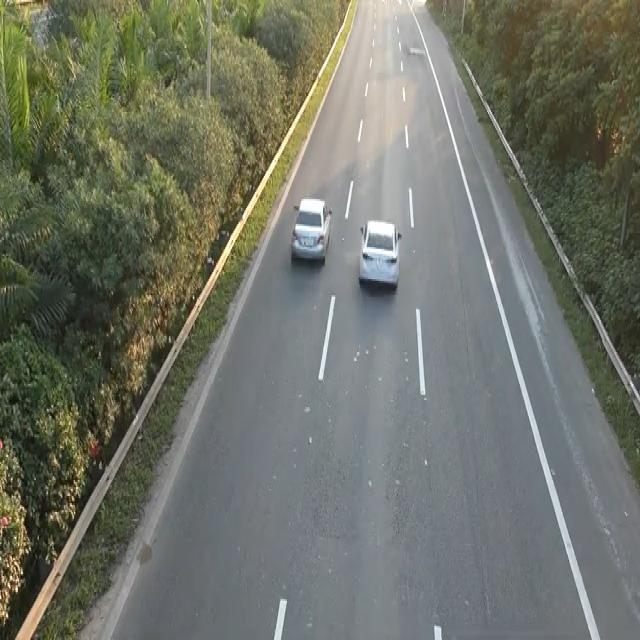bus: (356, 215, 404, 297), (289, 194, 333, 266)
